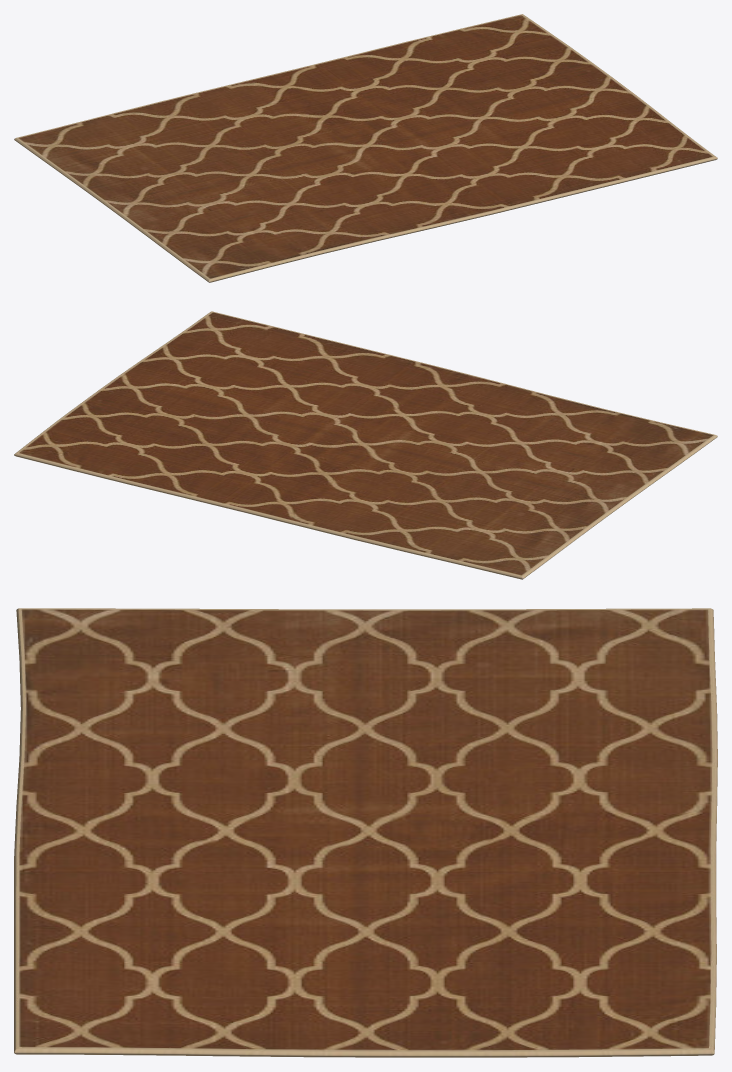
The picture shows the model from 3 angles, top to bottom: view 1: azimuth 30°, elevation 25°; view 2: azimuth 150°, elevation 25°; view 3: azimuth 270°, elevation 25°; orthographic projection. The views are drawn at different scales.
Visible parts, largest first — view 1: RootNode; view 2: RootNode; view 3: RootNode.
Boxes of the visible parts, x1,y1,x2,y2 form: RootNode: (14,14,717,282); RootNode: (14,311,717,579); RootNode: (14,608,717,1057).
Size of the model in its own units: 2.29 by 0.0137 by 1.53.
1 material, 1 textured.
